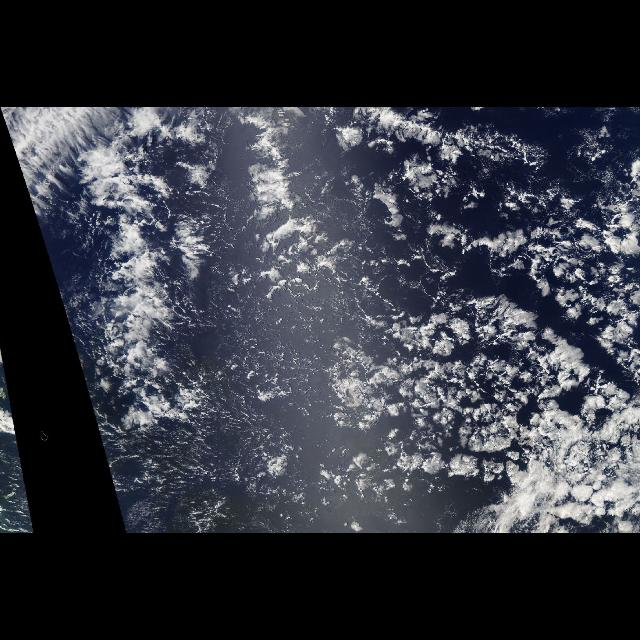Fish: (228, 108, 554, 284), (76, 108, 226, 444)
Flower: (379, 210, 639, 526)
Gravel: (250, 266, 476, 498)
Sugar: (98, 256, 318, 528), (2, 432, 34, 528)
